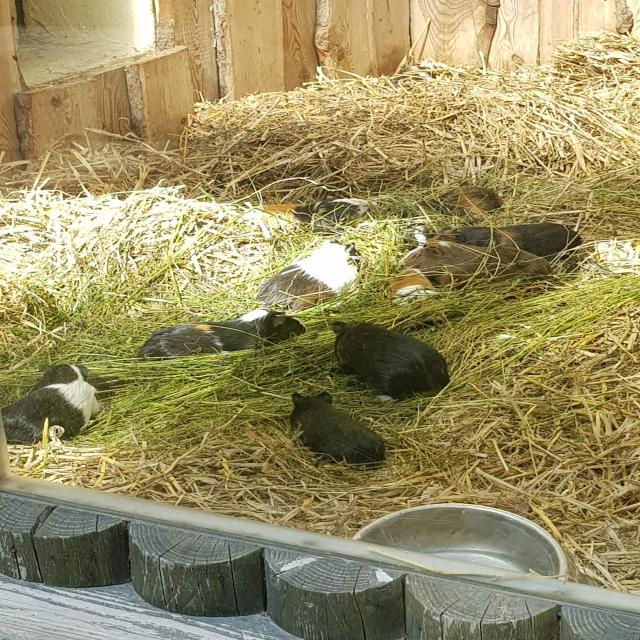guinea pig: (325, 316, 462, 403), (138, 306, 311, 363), (2, 359, 104, 447), (286, 390, 389, 473), (386, 234, 556, 283), (263, 236, 370, 312), (233, 193, 379, 236)
